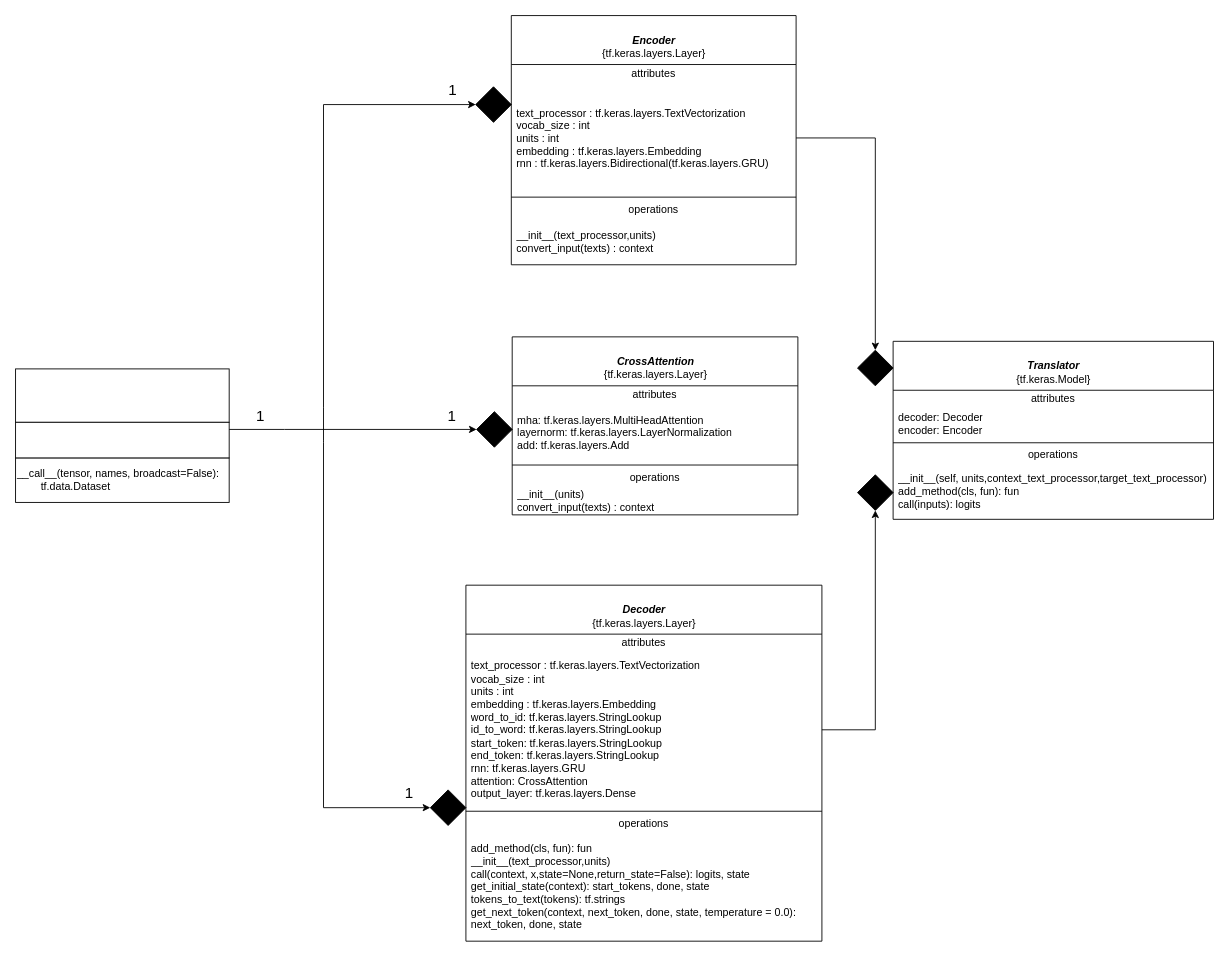
Some shapes in this 1229 by 957 pixel diagram are drawn without their labels. Each missing label, with the centre of its shape:
ShapeChecker: the point at 122,395
shapes: tf.data.Dataset: the point at 122,439
